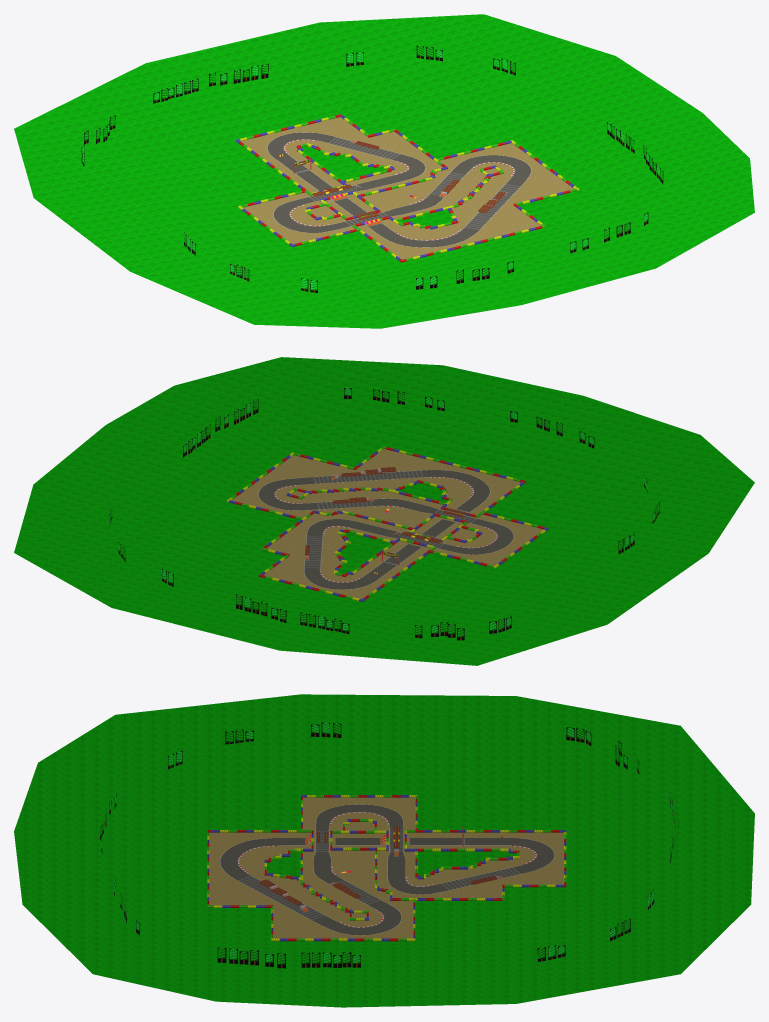
The picture shows the model from 3 angles, top to bottom: view 1: azimuth 30°, elevation 25°; view 2: azimuth 150°, elevation 25°; view 3: azimuth 270°, elevation 25°; orthographic projection. The views are drawn at different scales.
Visible parts, largest first — view 1: polygon4.023, polygon3.025, polygon6.029, polygon9.022, polygon1.028, polygon2.023, polygon7.027, polygon12.022; view 2: polygon4.023, polygon3.025, polygon6.029, polygon9.022, polygon1.028, polygon2.023, polygon7.027, polygon12.022; view 3: polygon4.023, polygon3.025, polygon6.029, polygon9.022, polygon1.028, polygon2.023, polygon7.027, polygon12.022.
Part boxes in pixels (box(x1,y1,x2,y2)): polygon4.023: box(14, 14, 754, 328); polygon3.025: box(241, 117, 573, 259); polygon6.029: box(267, 132, 531, 247); polygon9.022: box(81, 45, 663, 292); polygon1.028: box(236, 115, 579, 262); polygon2.023: box(236, 114, 578, 260); polygon7.027: box(308, 137, 520, 229); polygon12.022: box(278, 141, 505, 220); polygon4.023: box(14, 357, 754, 665); polygon3.025: box(232, 449, 543, 598); polygon6.029: box(258, 470, 513, 589); polygon9.022: box(109, 388, 659, 640); polygon1.028: box(227, 447, 548, 601); polygon2.023: box(227, 446, 547, 600); polygon7.027: box(304, 470, 476, 568); polygon12.022: box(305, 467, 466, 574); polygon4.023: box(14, 694, 754, 1007); polygon3.025: box(209, 797, 563, 938); polygon6.029: box(220, 804, 554, 935); polygon9.022: box(100, 722, 678, 968); polygon1.028: box(207, 795, 566, 941); polygon2.023: box(207, 795, 566, 939); polygon7.027: box(237, 830, 520, 920); polygon12.022: box(259, 826, 502, 905).
Size of the model in its own units: 131922 by 5215 by 131922.
13 materials, 13 textured.
